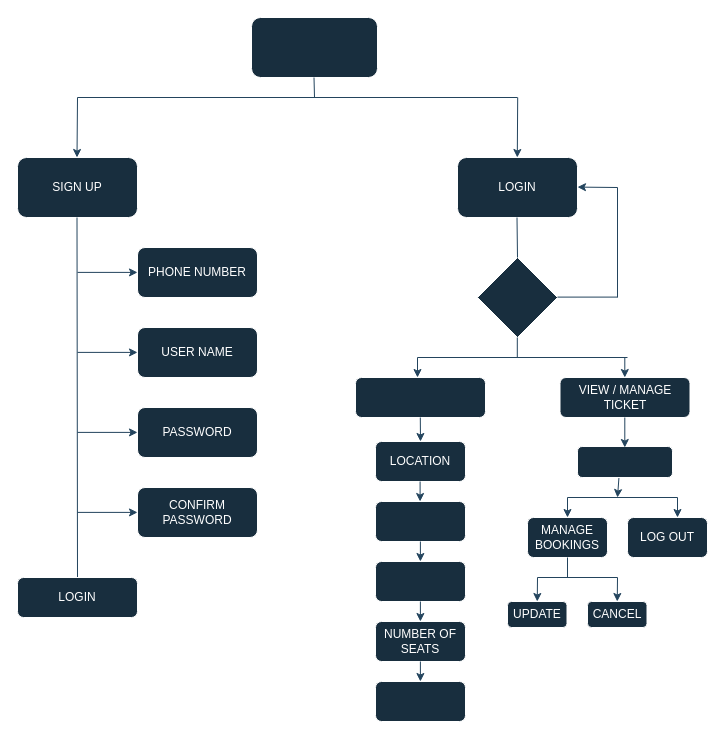
This 725x739 diagram has some shape labels left out. The shapes that lost their labels are listed below. From the top down, each one's centre as x and y in pixels, then its label:
At [314,47]: "HOME PAGE".
At [517,297]: "IF YES".
At [420,397]: "TICKET BOOKING".
At [624,462]: "DETAILS".
At [420,521]: "THEATRES".
At [420,581]: "TIMINGS".
At [420,701]: "BOOKING SUCCESSFUL".
